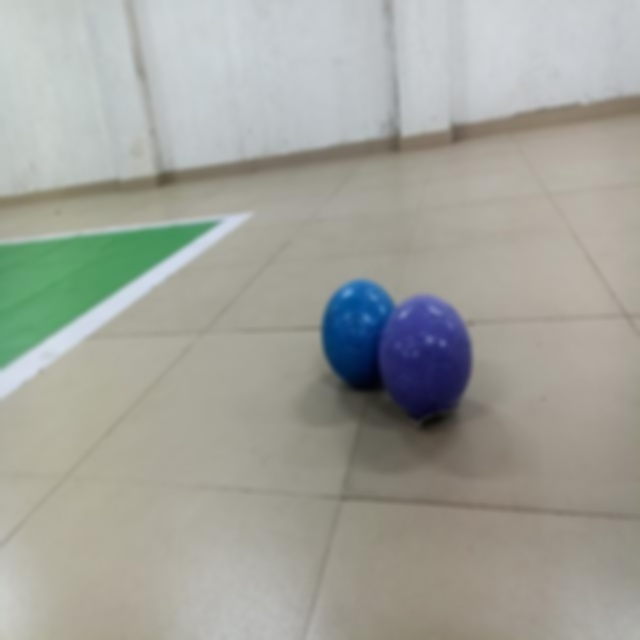blue_ball: (323, 275, 393, 397)
purple_ball: (383, 281, 478, 426)
